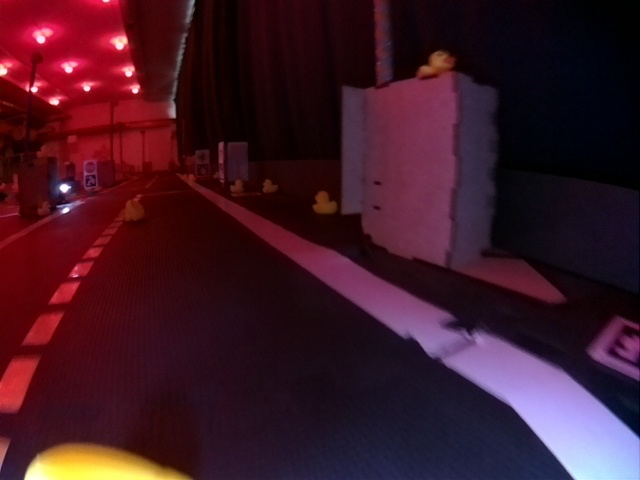Duckie: (25, 443, 183, 478), (417, 51, 455, 76), (313, 191, 337, 214), (125, 199, 144, 220), (229, 179, 244, 192), (263, 180, 276, 192)
QR code: (587, 319, 640, 376)
